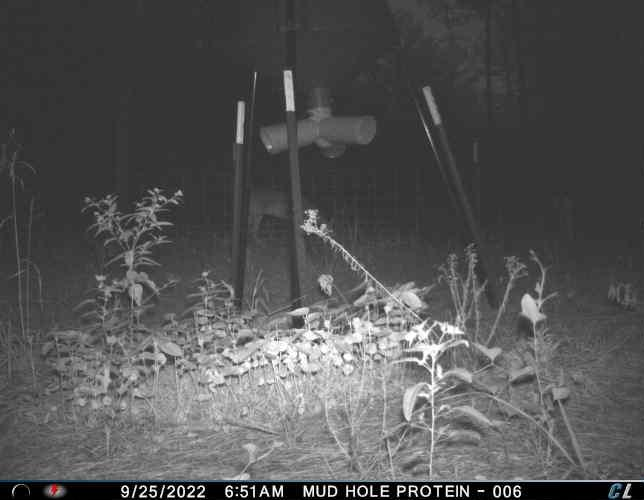Deer: (245, 184, 327, 253)
